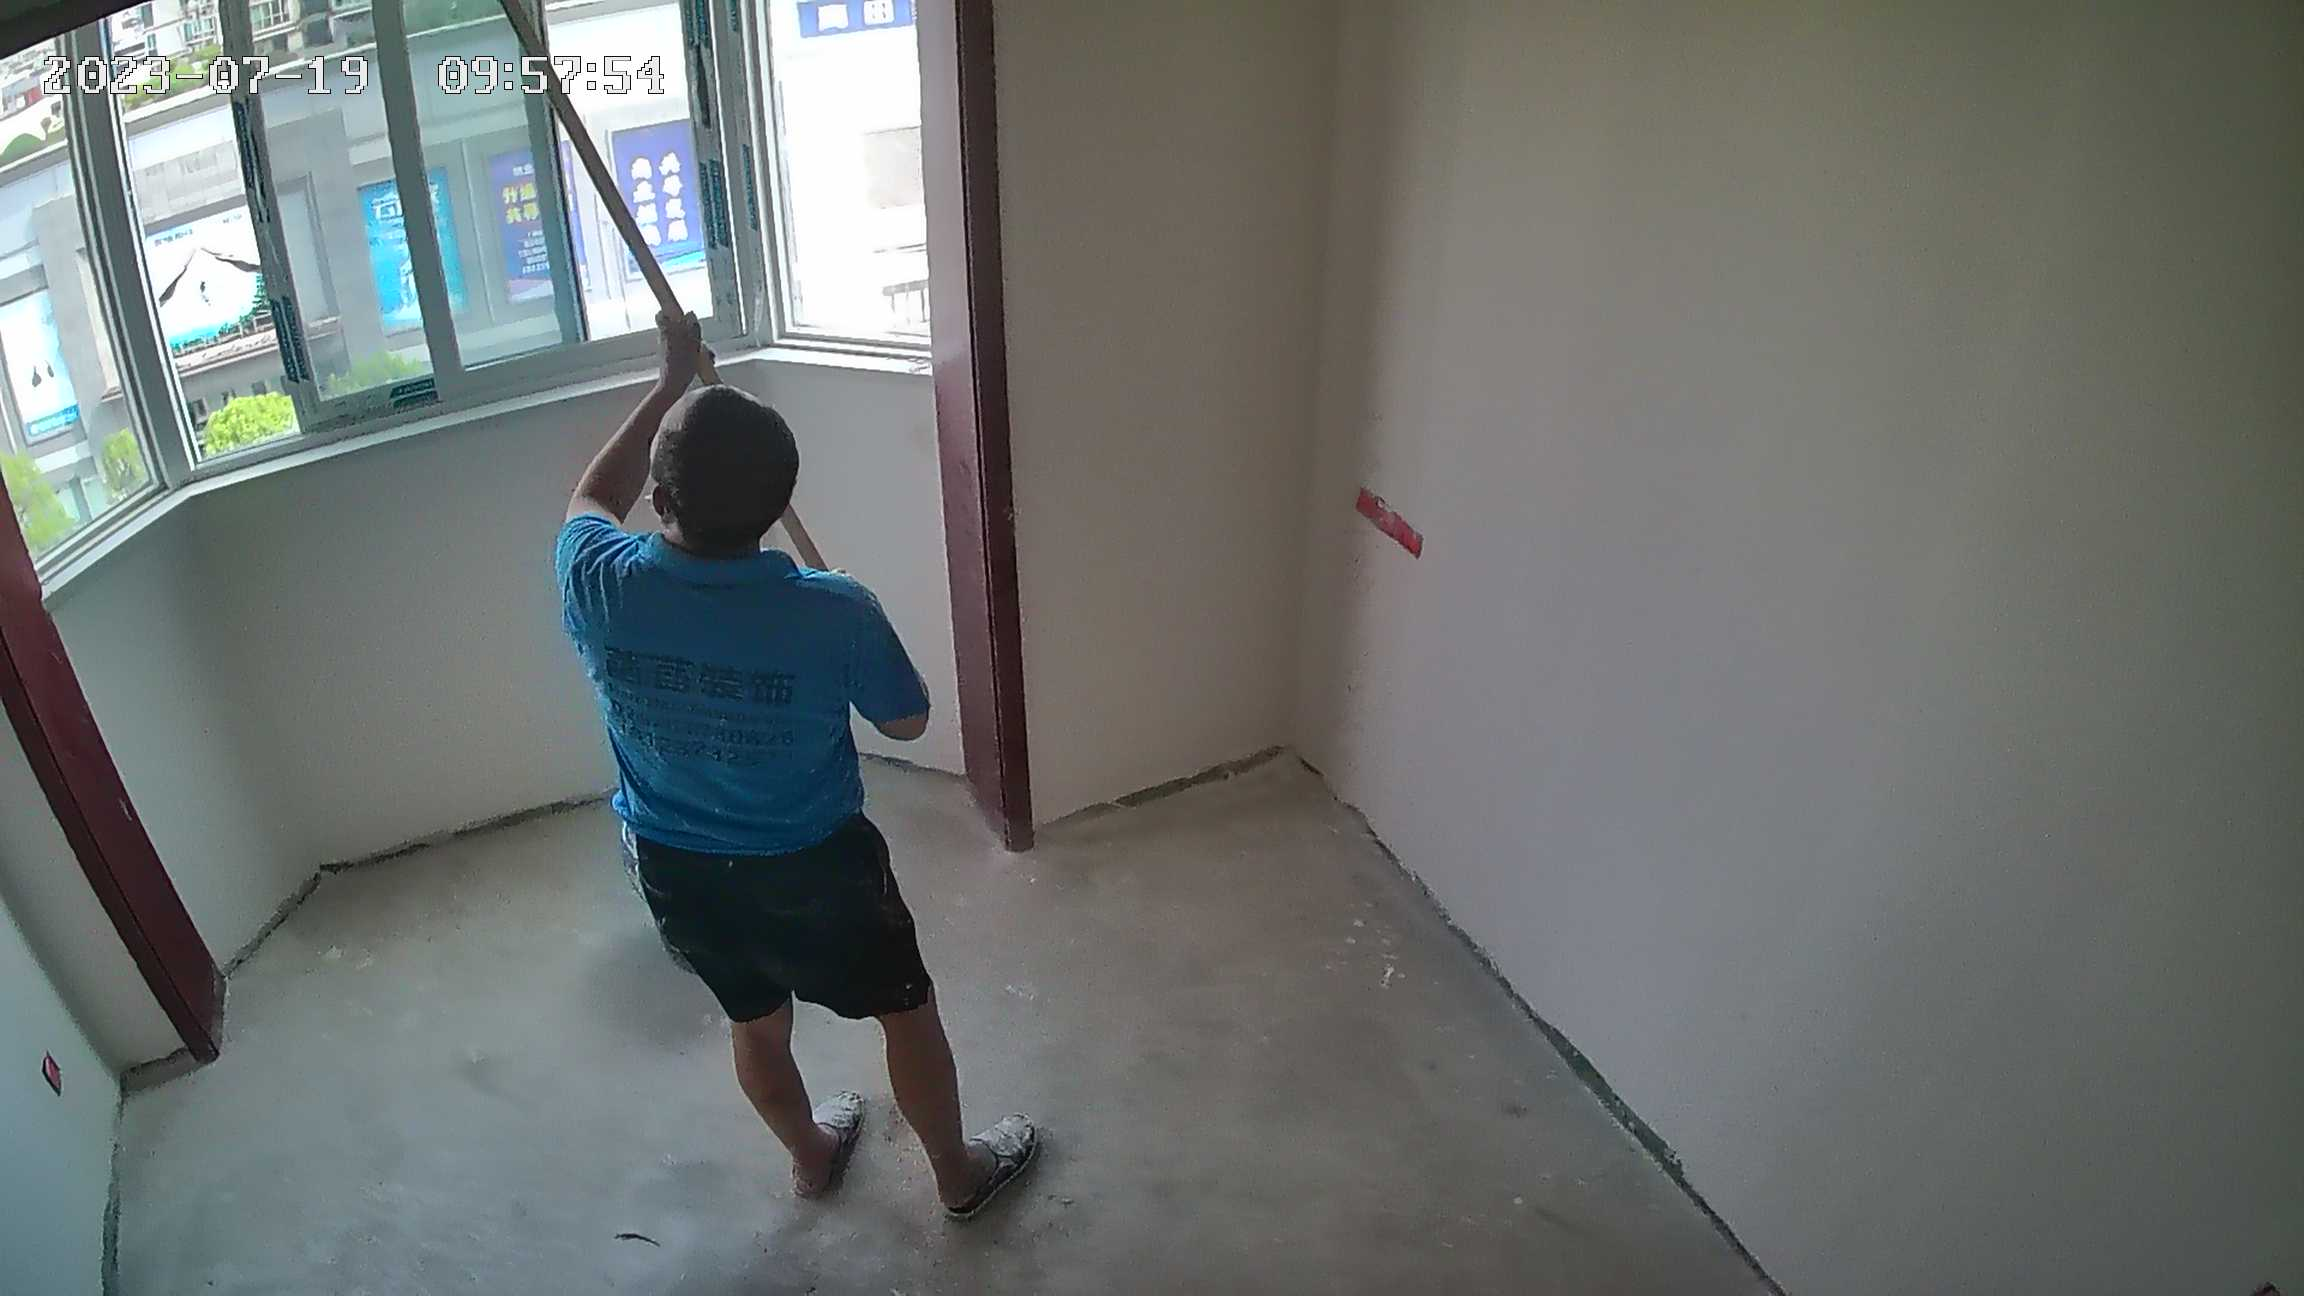people: (560, 385, 1056, 1217)
window: (11, 1, 923, 593)
